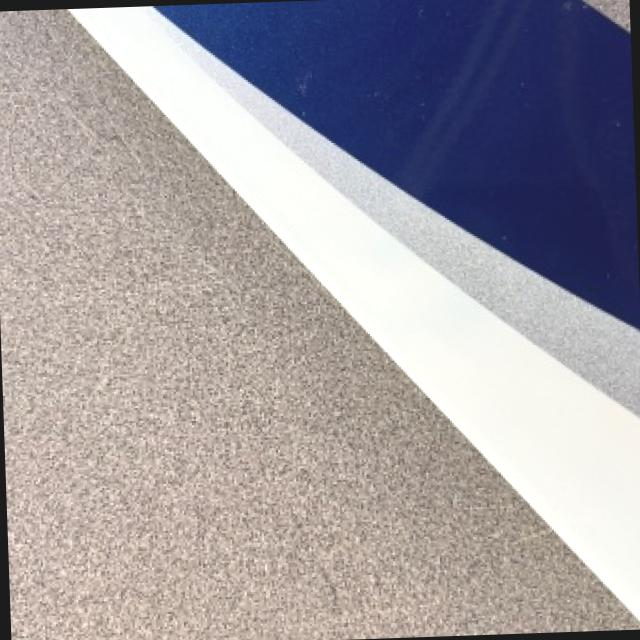healthy: (0, 9, 640, 640)
